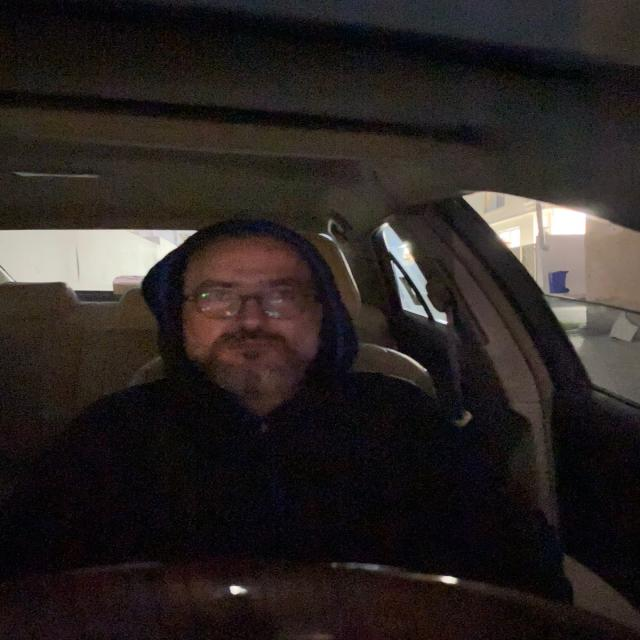person: (149, 213, 352, 416)
